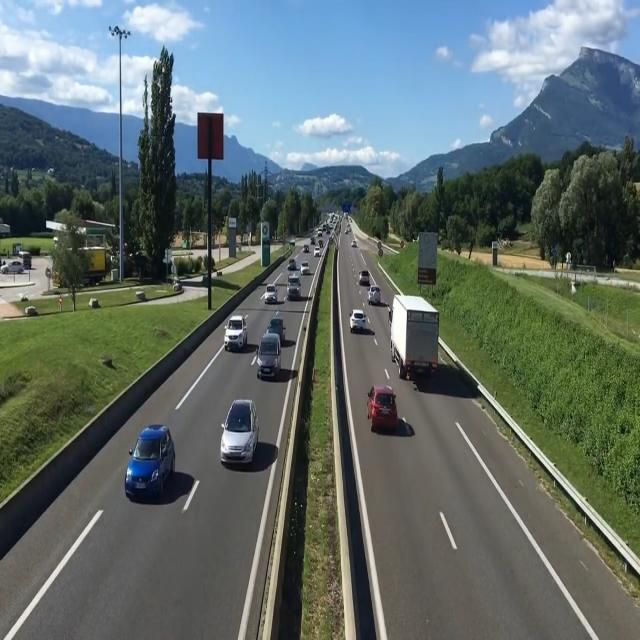car: (128, 423, 176, 504), (222, 396, 260, 468), (366, 381, 404, 436), (256, 313, 284, 382), (223, 312, 251, 354), (364, 276, 384, 309), (351, 305, 371, 335), (262, 280, 279, 306)
truck: (388, 290, 439, 395)
